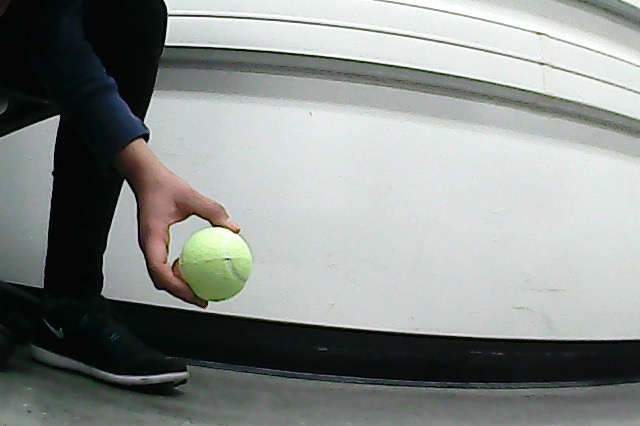ball: (177, 226, 255, 304)
